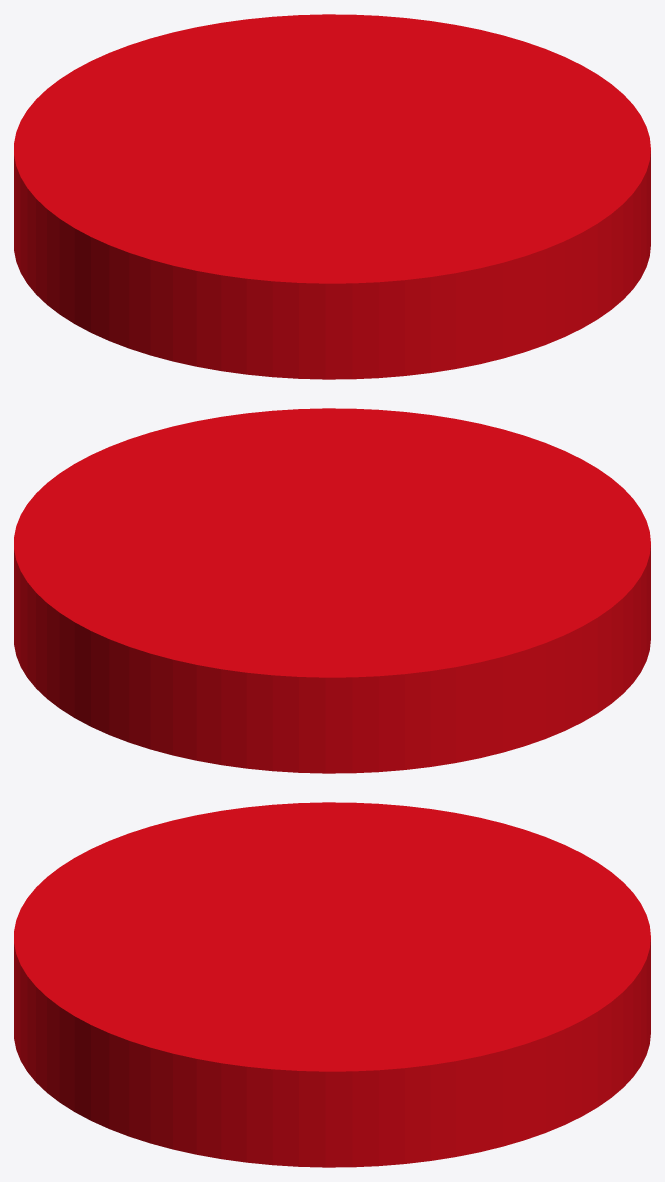
The model's file is puck.fbx.
The picture shows the model from 3 angles, top to bottom: view 1: azimuth 30°, elevation 25°; view 2: azimuth 150°, elevation 25°; view 3: azimuth 270°, elevation 25°; orthographic projection.
Visible parts, largest first — view 1: Circle; view 2: Circle; view 3: Circle.
Part boxes in pixels (x1,y1,x2,y2): Circle: [14, 14, 650, 379]; Circle: [14, 408, 650, 773]; Circle: [14, 802, 650, 1167].
Bounding box in the file's own units: 200 × 33.21 × 200.
